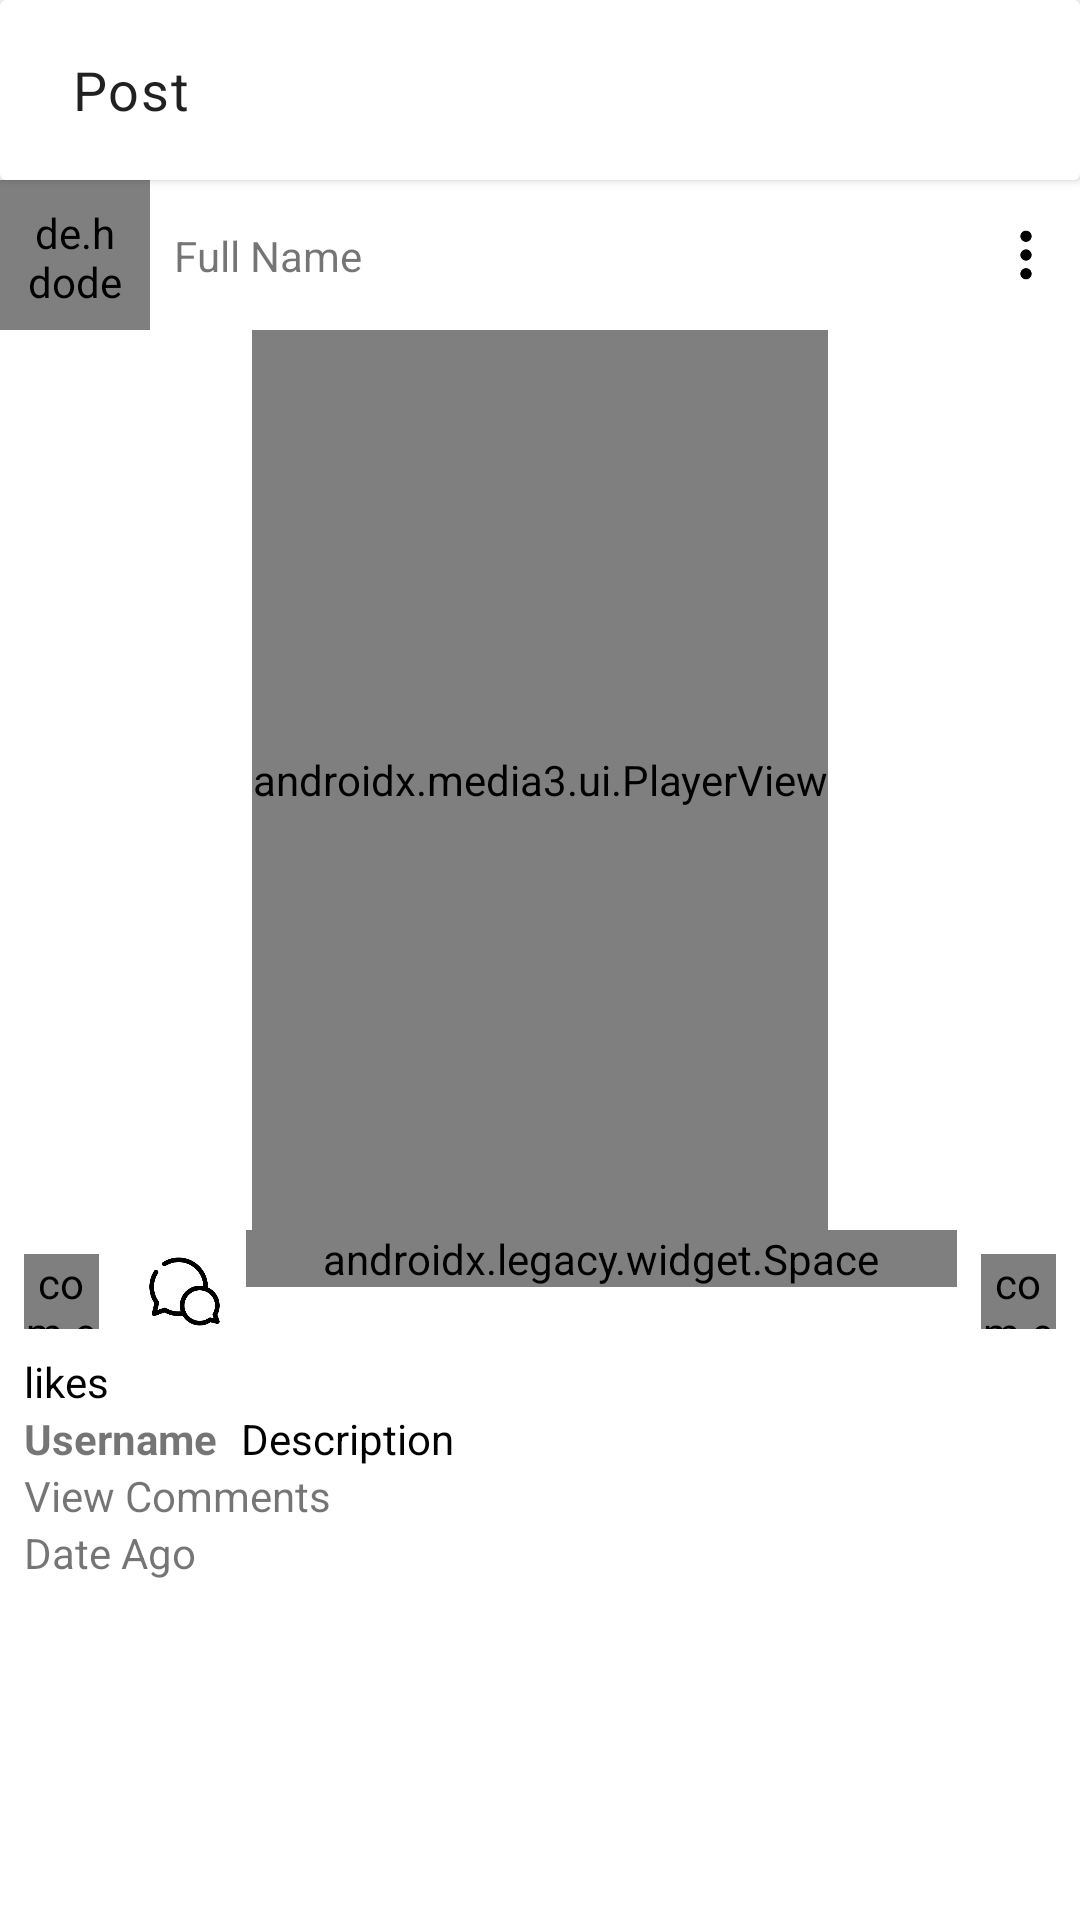

Point at icon controls on the screen. Image size 1080px×1920px, points as point (x, y).
threedot: point (1026, 255)
